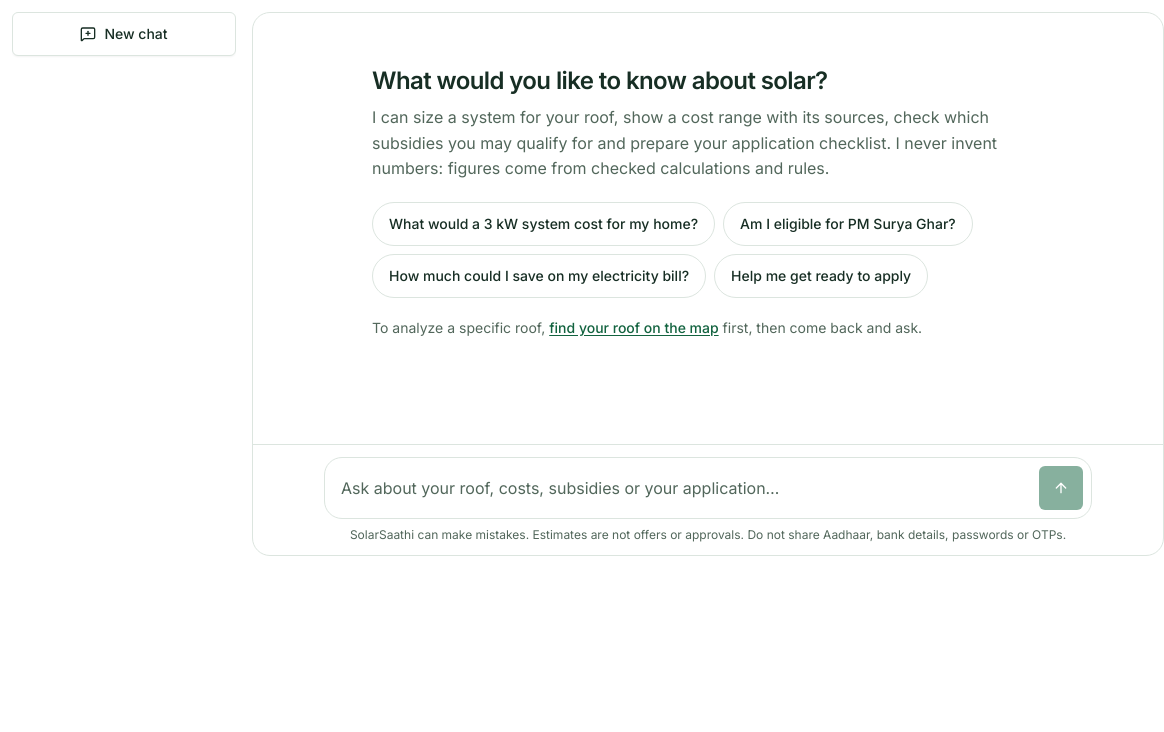
Test: chat workspace › shows a helpful message for a guardrail block and a rate limit
Type "write me a poem" into the text box named "Message SolarSaathi" at (682, 488), box x1=333 y1=466 x2=1031 y2=510
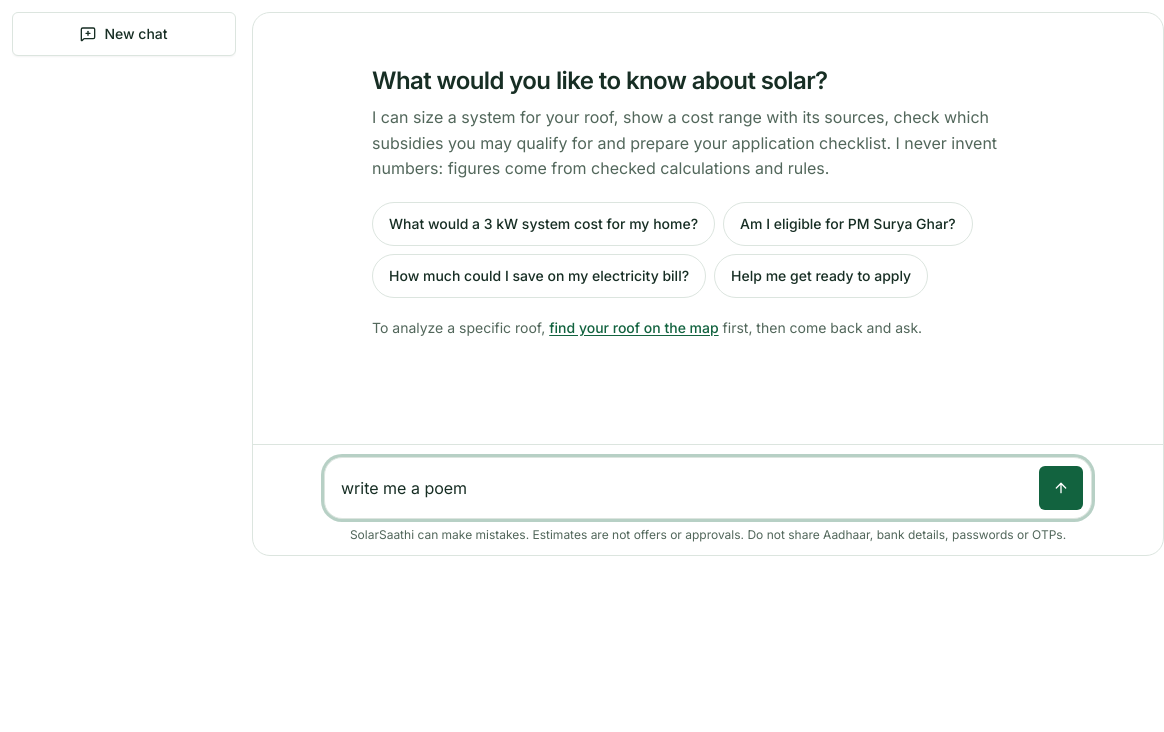
Click the button named "Send" at (1061, 488), box x1=1039 y1=466 x2=1083 y2=510
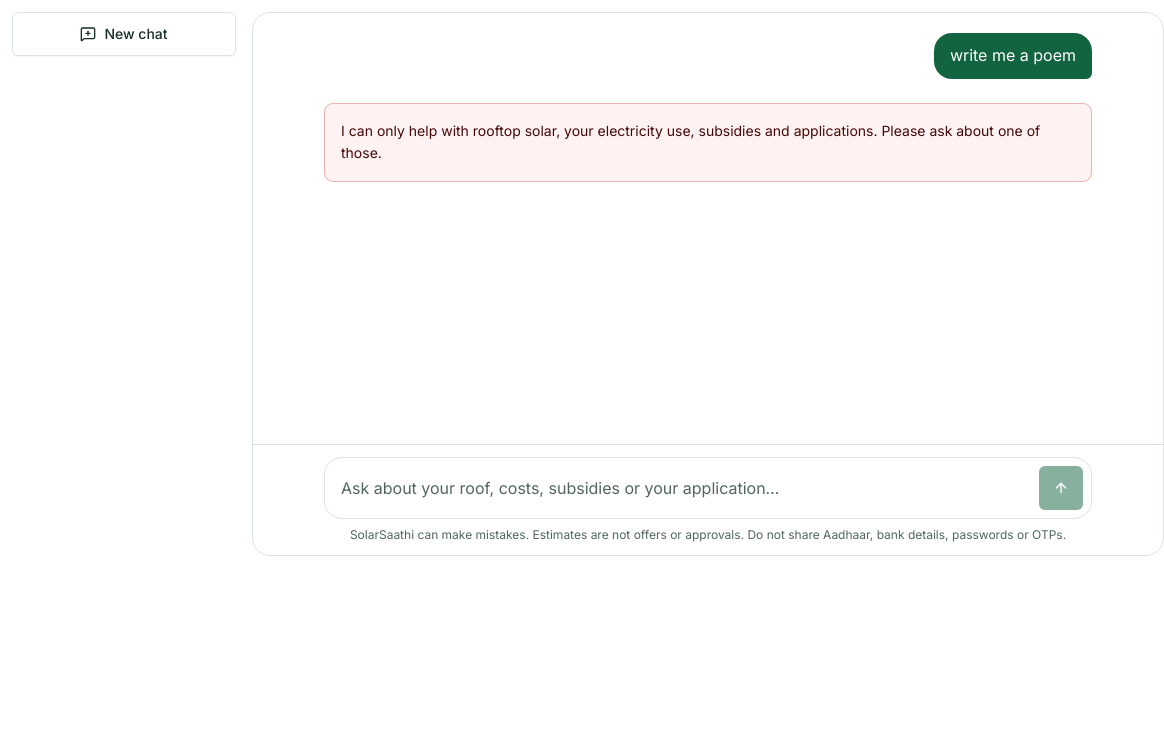
expect the text "I can only help with rooftop solar" is shown: met, box x1=341 y1=122 x2=1040 y2=161
